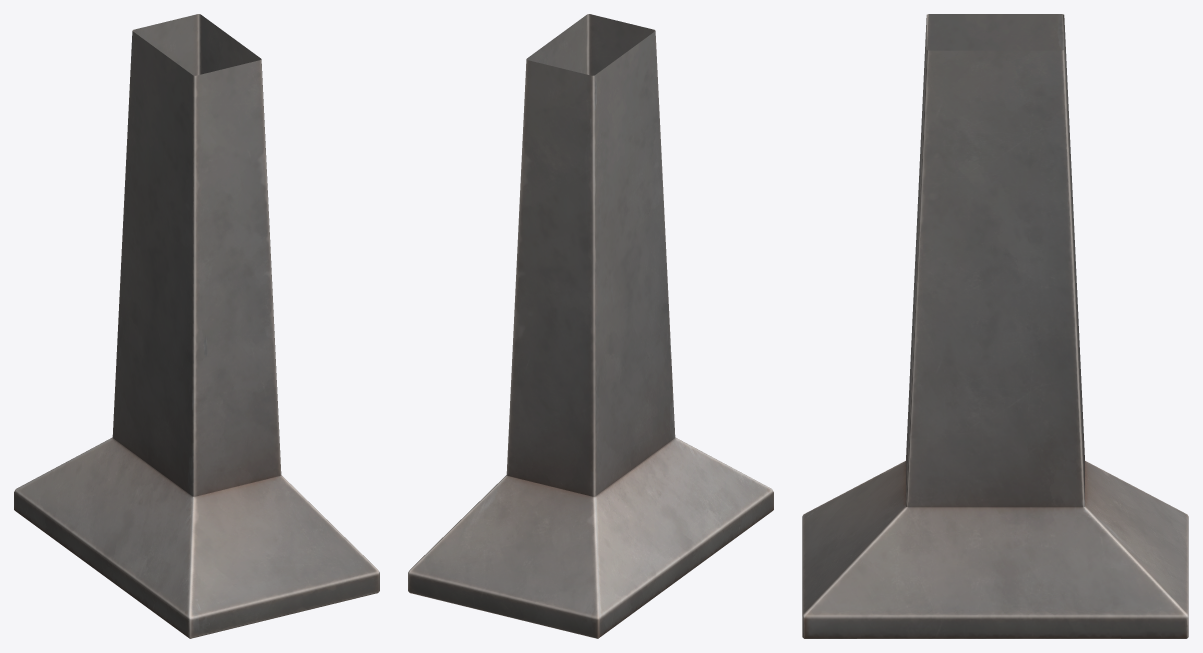
Rendered from SM_RangeHood.fbx.
3 renders of one model, left to right at view 1: azimuth 30°, elevation 25°; view 2: azimuth 150°, elevation 25°; view 3: azimuth 270°, elevation 25°, orthographic. The views are drawn at different scales.
Visible parts, largest first — view 1: SM_RangeHood_LOD0; view 2: SM_RangeHood_LOD0; view 3: SM_RangeHood_LOD0.
Part boxes in pixels (box(x1,y1,x2,y2)): SM_RangeHood_LOD0: box(14, 14, 379, 638); SM_RangeHood_LOD0: box(408, 14, 773, 638); SM_RangeHood_LOD0: box(802, 14, 1188, 638).
Bounding box in the file's own units: 61.88 × 98.63 × 157.
Materials: 1 (1 with a texture image).
